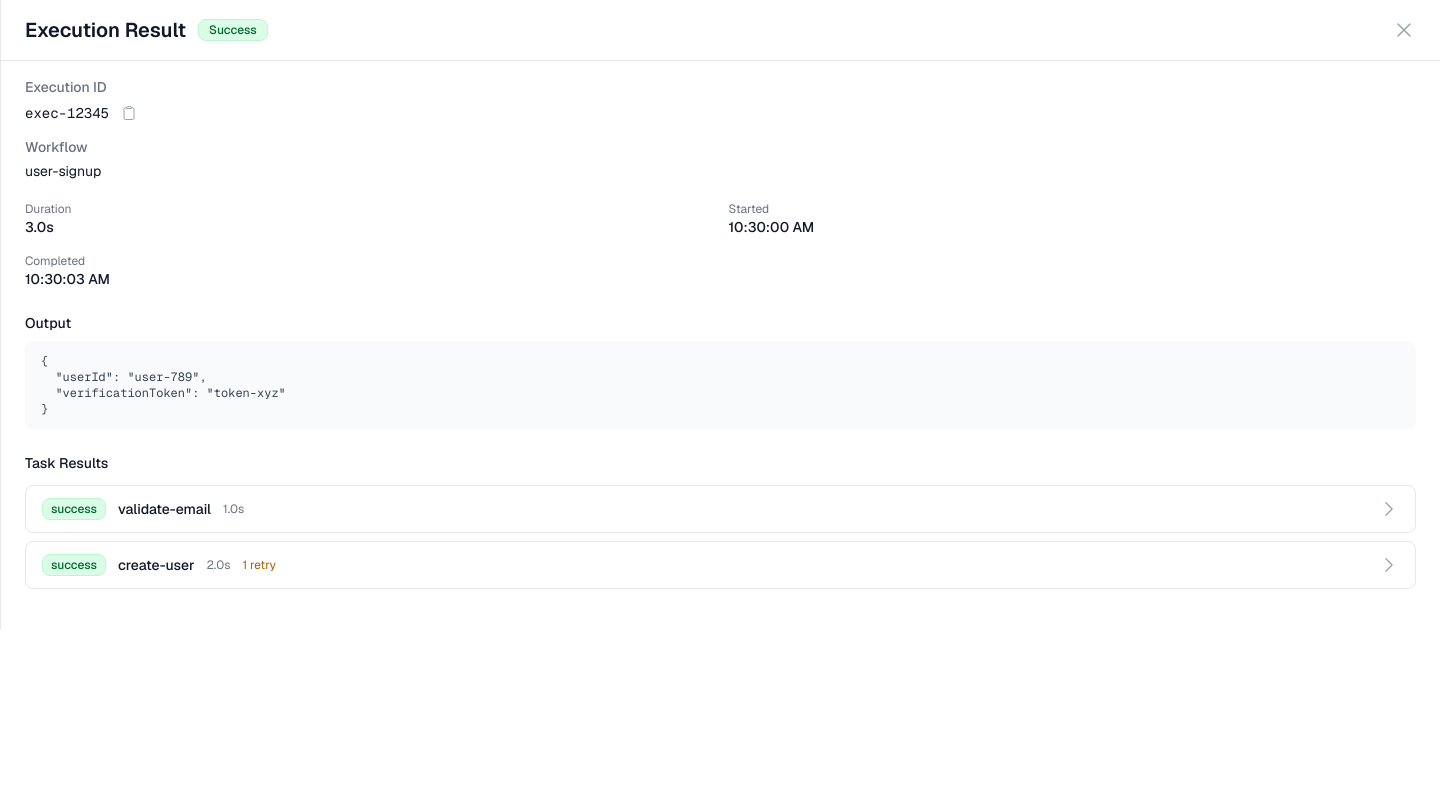
Test: ExecutionResultPanel › Task Details Expansion › can expand task to show details
Expected: the text "\"valid\"" is not shown
Note: Click to expand
Click the button "success validate-email 1.0s": x=74, y=509 [26,486,1415,532]
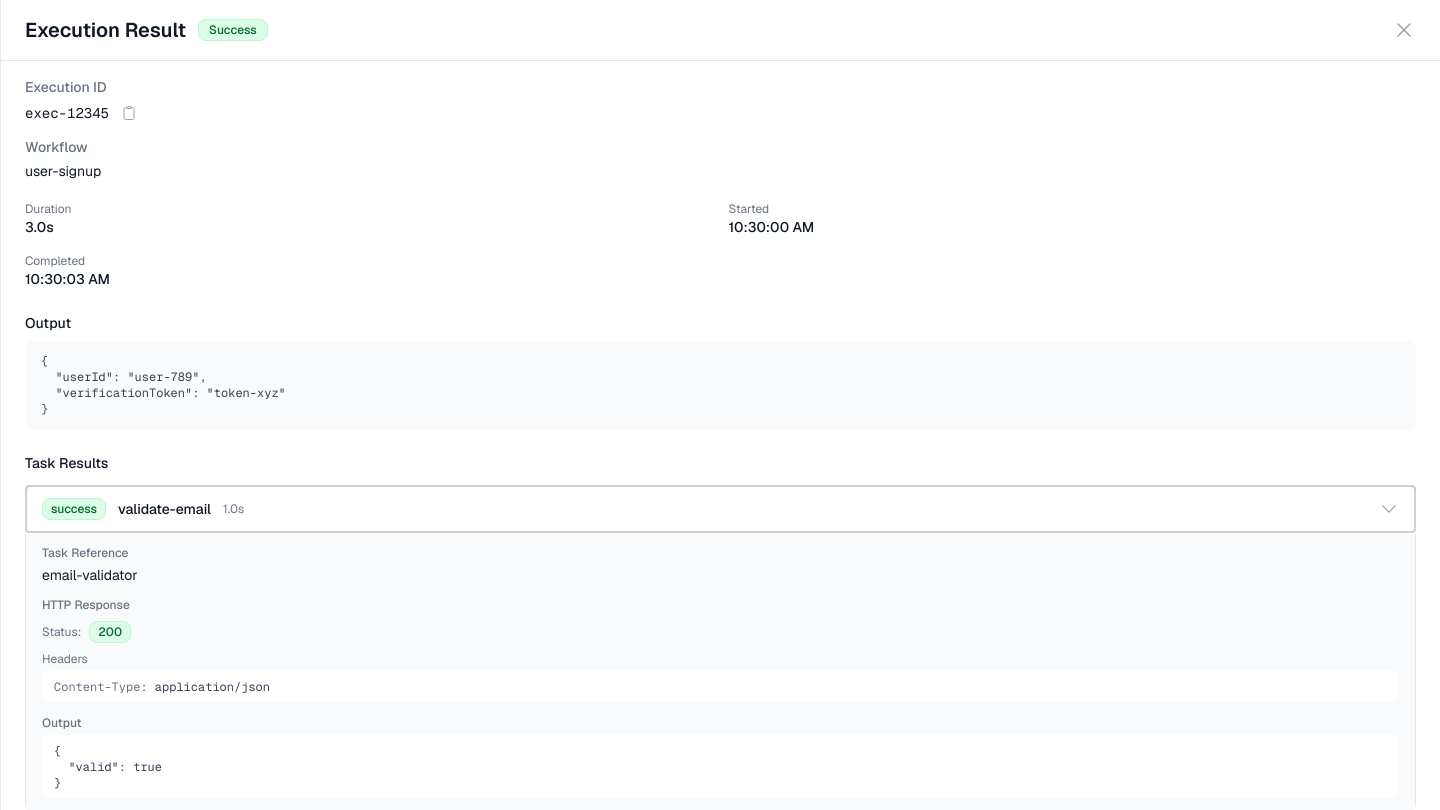
Expected: the text "{ \"valid\": true }" is shown, [42,735,1399,799]
